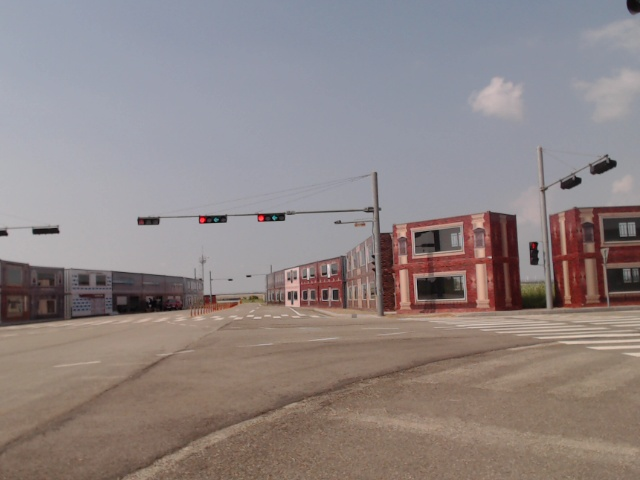left_green_4: (199, 216, 226, 223), (259, 214, 285, 221)
